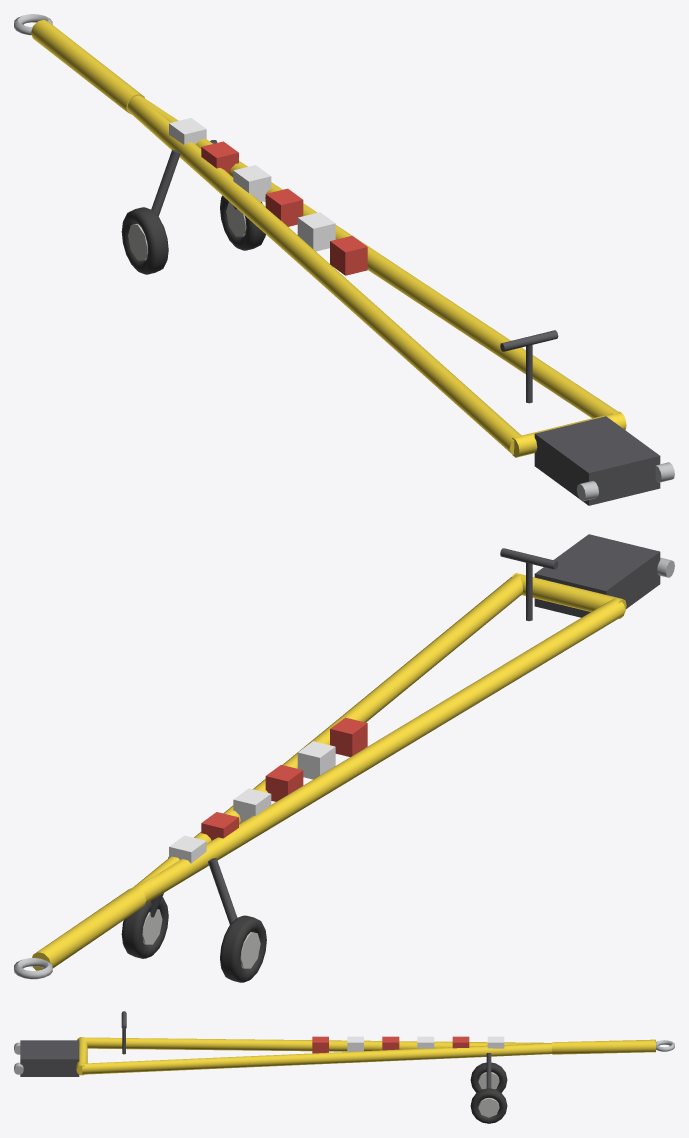
File: TowBar.glb
The picture shows the model from 3 angles, top to bottom: view 1: azimuth 30°, elevation 25°; view 2: azimuth 150°, elevation 25°; view 3: azimuth 270°, elevation 25°; orthographic projection. The views are drawn at different scales.
Parts seen in each view (by area): view 1: Body; view 2: Body; view 3: Body.
Boxes of the visible parts, <box> form: Body: <box>14,14,674,505</box>; Body: <box>14,534,674,982</box>; Body: <box>14,1011,674,1123</box>.
Size of what is drawn, in the model's own units: 0.52 by 0.718 by 4.71.
